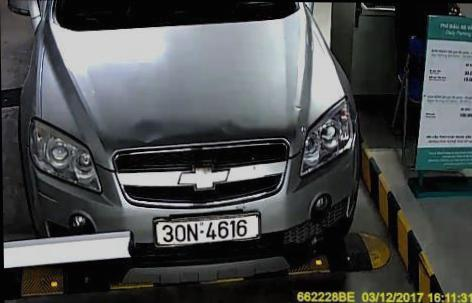License_Plate: (158, 214, 263, 243)
